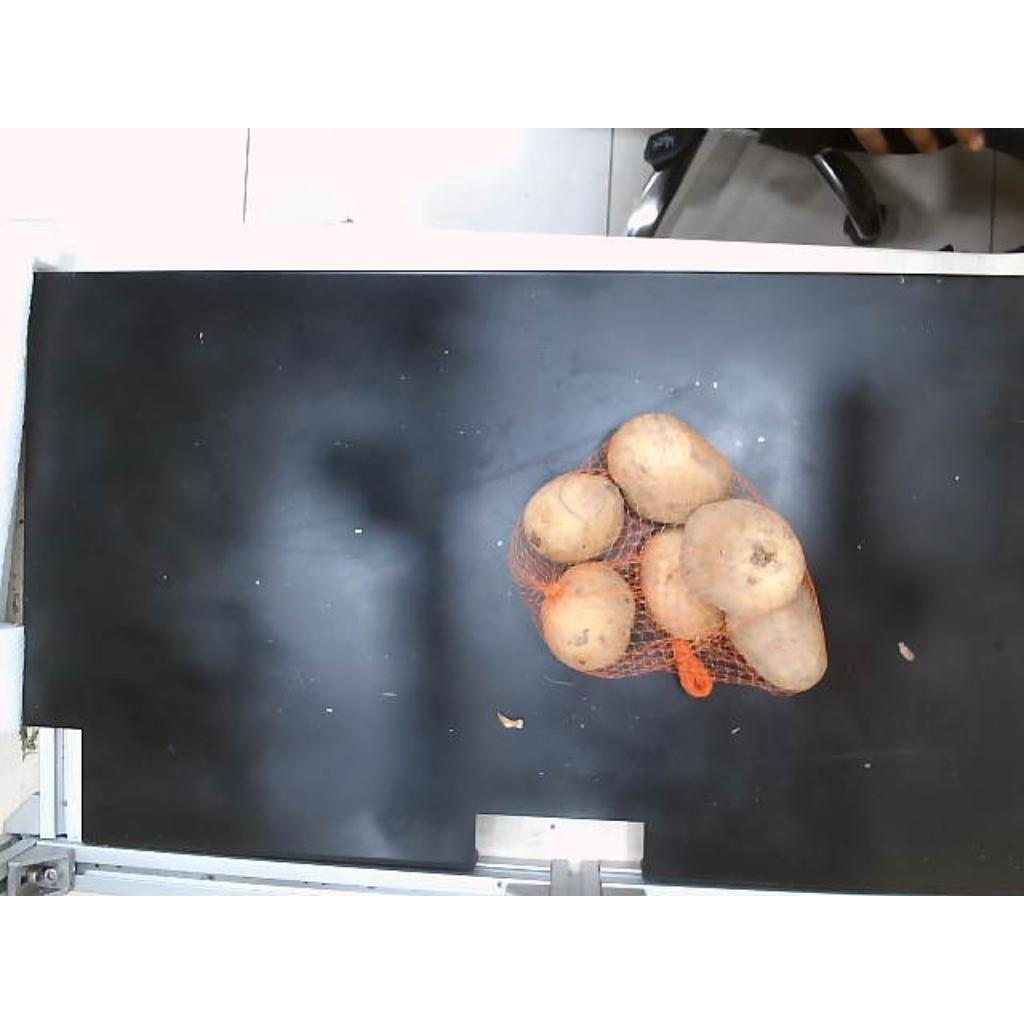potato: (682, 504, 806, 617), (608, 414, 734, 523), (726, 572, 828, 692), (540, 562, 636, 671), (522, 472, 624, 563), (642, 528, 724, 640)
